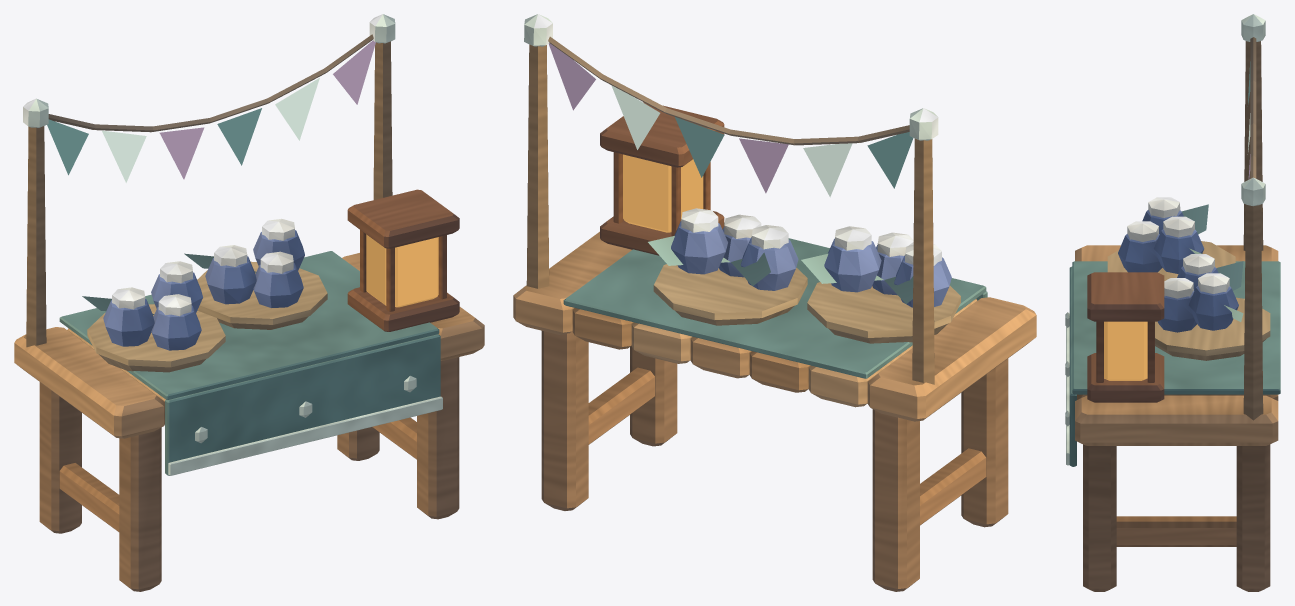
File: season_table_winter.glb
3 renders of one model, left to right at view 1: azimuth 30°, elevation 25°; view 2: azimuth 150°, elevation 25°; view 3: azimuth 270°, elevation 25°, orthographic. The views are drawn at different scales.
Visible parts, largest first — view 1: Dorftisch · winter; view 2: Dorftisch · winter; view 3: Dorftisch · winter.
Boxes of the visible parts, <box> form: Dorftisch · winter: <box>14,14,484,591</box>; Dorftisch · winter: <box>513,14,1036,591</box>; Dorftisch · winter: <box>1065,14,1280,591</box>.
Bounding box in the file's own units: 1.67 × 1.88 × 0.8689.
4 materials, 3 textured.
